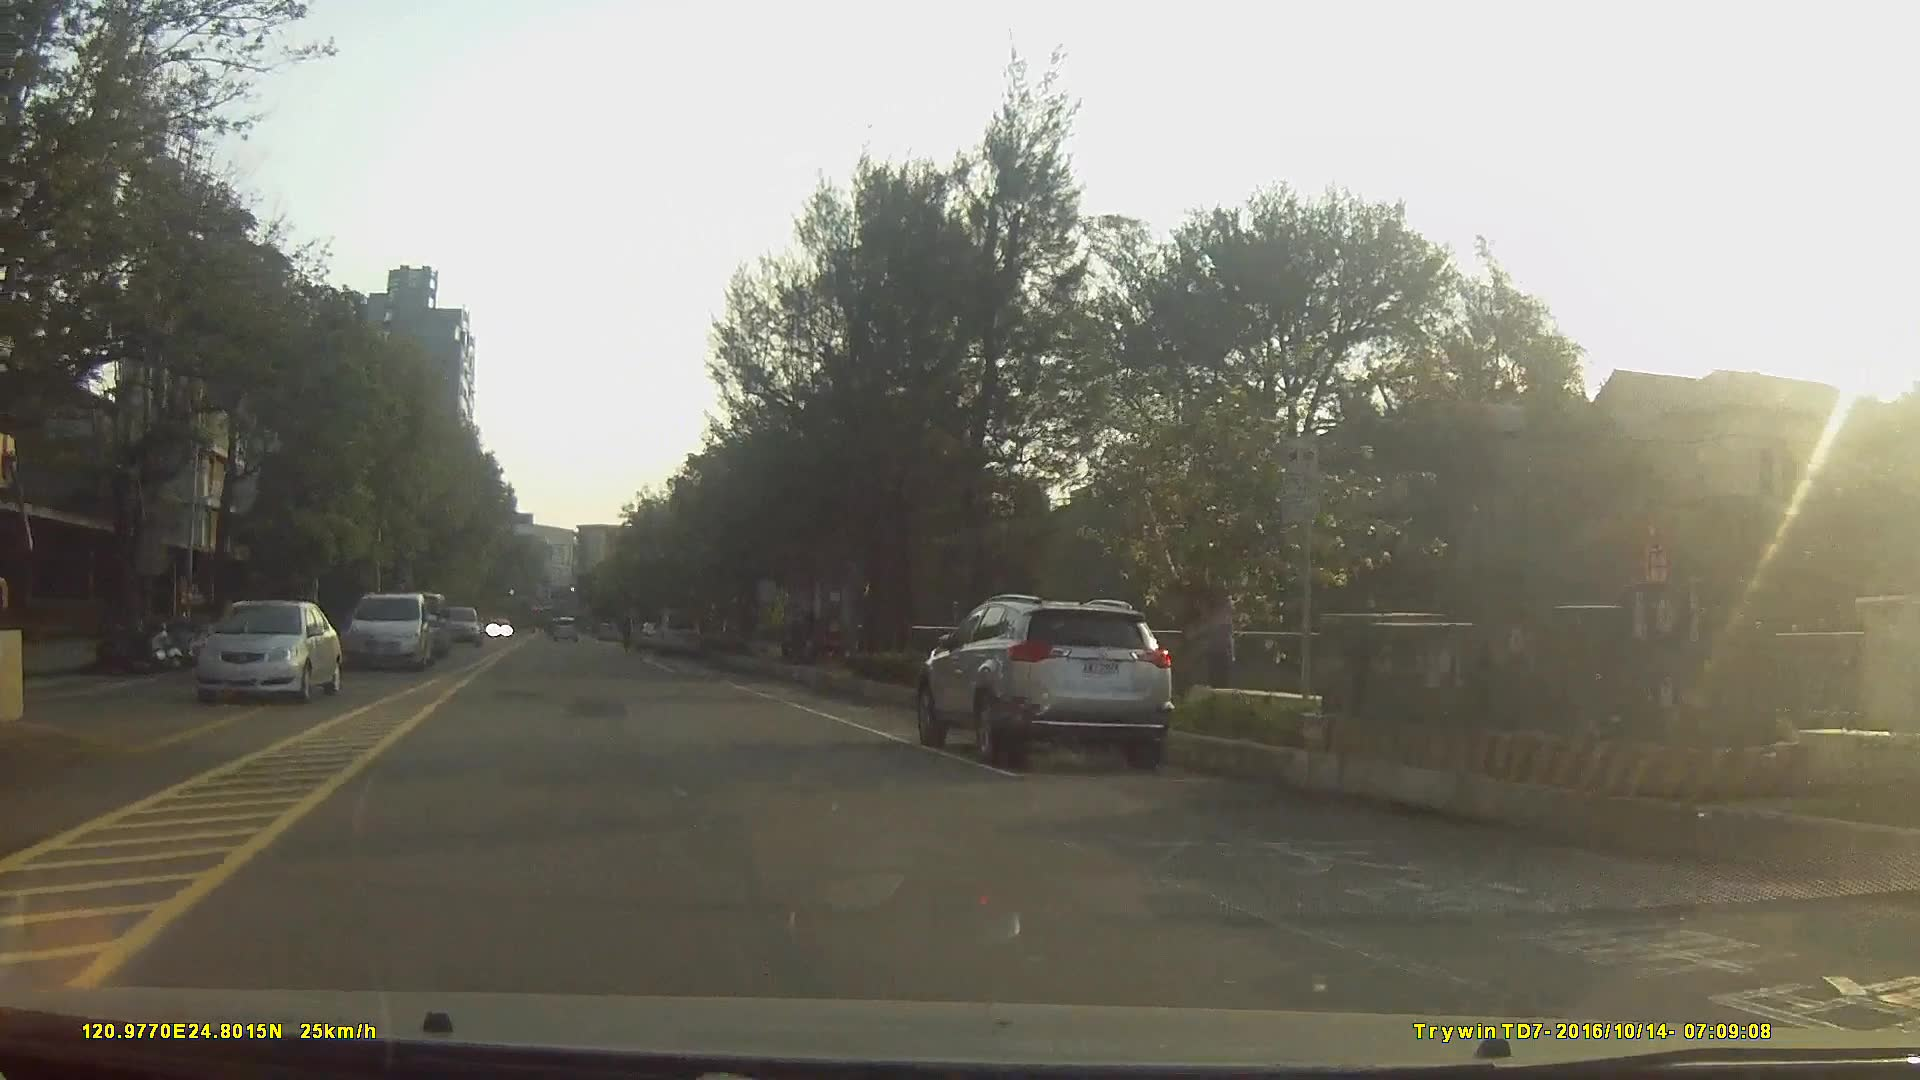vehicle: (920, 593, 1174, 777), (194, 599, 342, 702), (347, 589, 435, 671), (655, 609, 702, 655), (438, 607, 483, 645), (634, 618, 670, 651)
